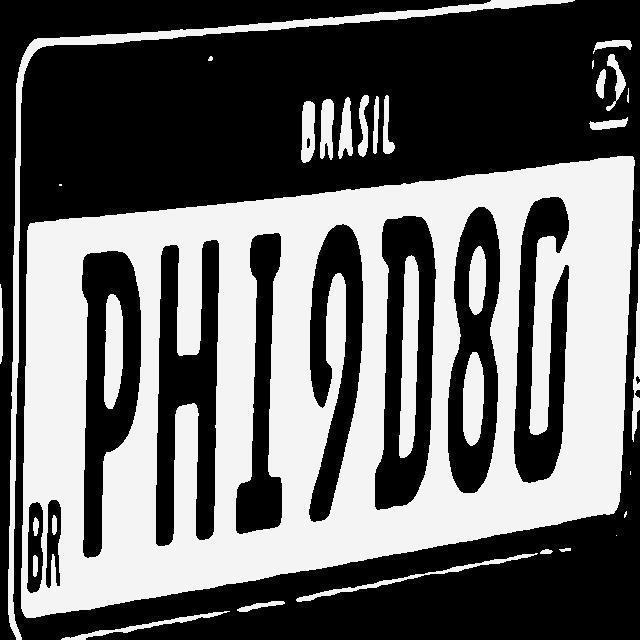0: (519, 202, 582, 480)
8: (448, 216, 512, 494)
9: (302, 234, 376, 524)
d: (374, 222, 441, 514)
h: (154, 251, 228, 552)
i: (236, 238, 296, 534)
p: (82, 264, 142, 560)
